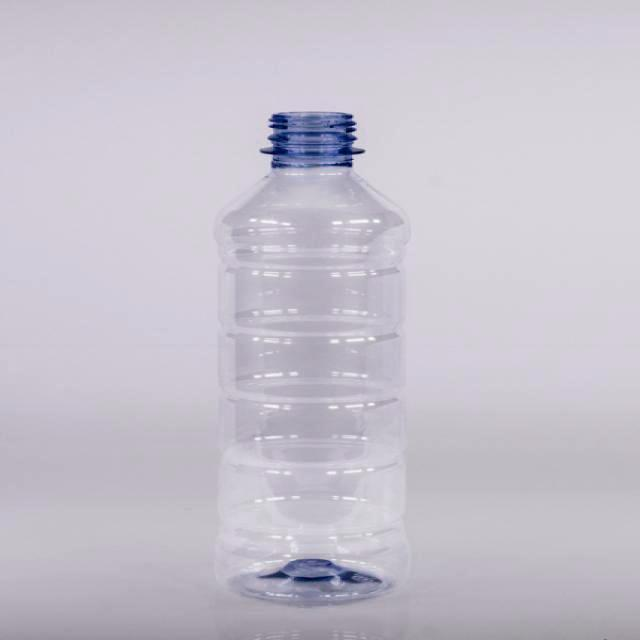bottle: (212, 109, 411, 607)
